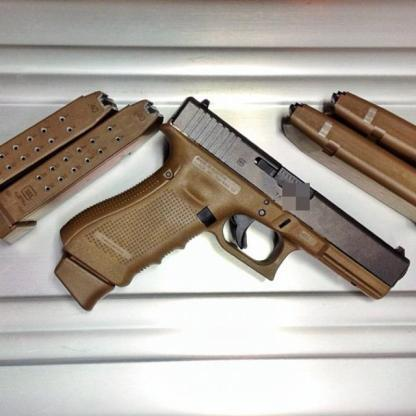weapon: (54, 95, 410, 311)
